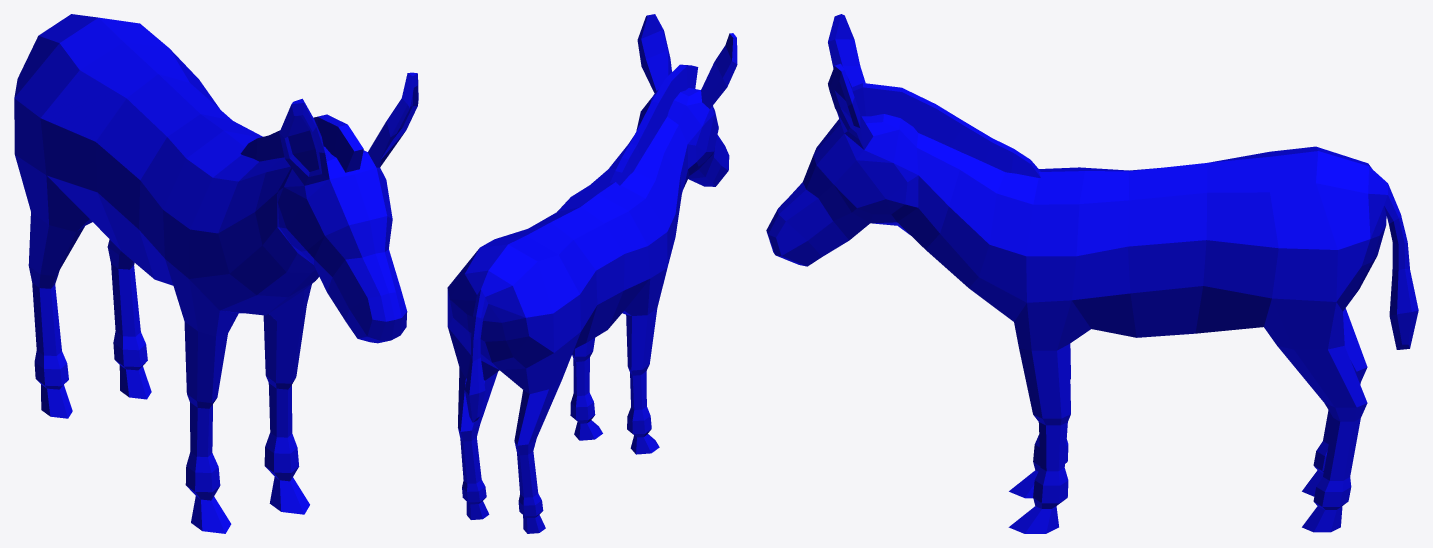
The model's file is Blue_Donkey.glb.
3 renders of one model, left to right at view 1: azimuth 30°, elevation 25°; view 2: azimuth 150°, elevation 25°; view 3: azimuth 270°, elevation 25°, orthographic. The views are drawn at different scales.
Parts seen in each view (by area): view 1: node-0; view 2: node-0; view 3: node-0.
Part boxes in pixels (left/top/right/bottom): node-0: left=14, top=14, right=418, bottom=533; node-0: left=447, top=14, right=737, bottom=533; node-0: left=766, top=14, right=1418, bottom=533.
Size of the model in its own units: 3.58 by 10.87 by 13.69.
